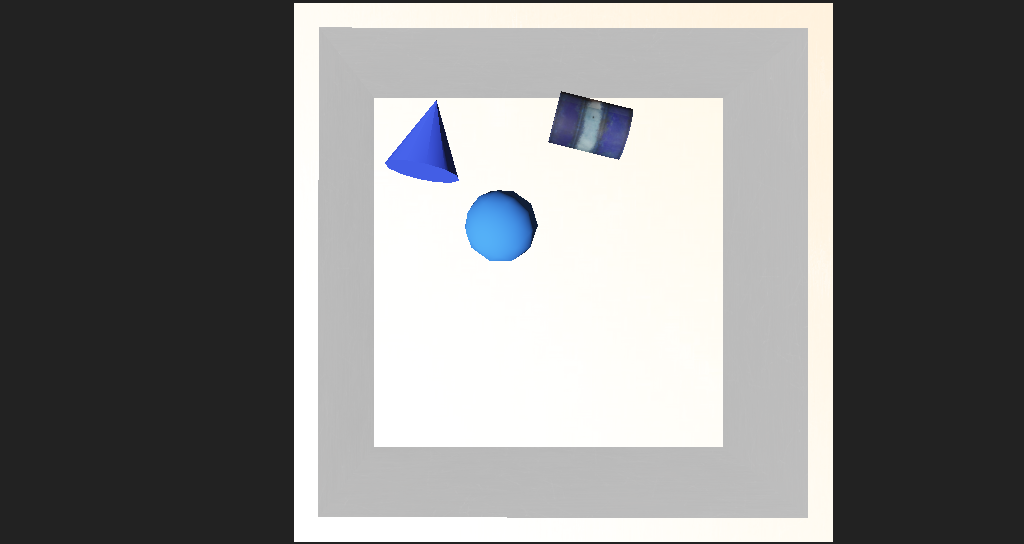cone: (509, 153, 583, 200)
cylinder: (350, 148, 445, 215)
sphere: (435, 215, 495, 262)
